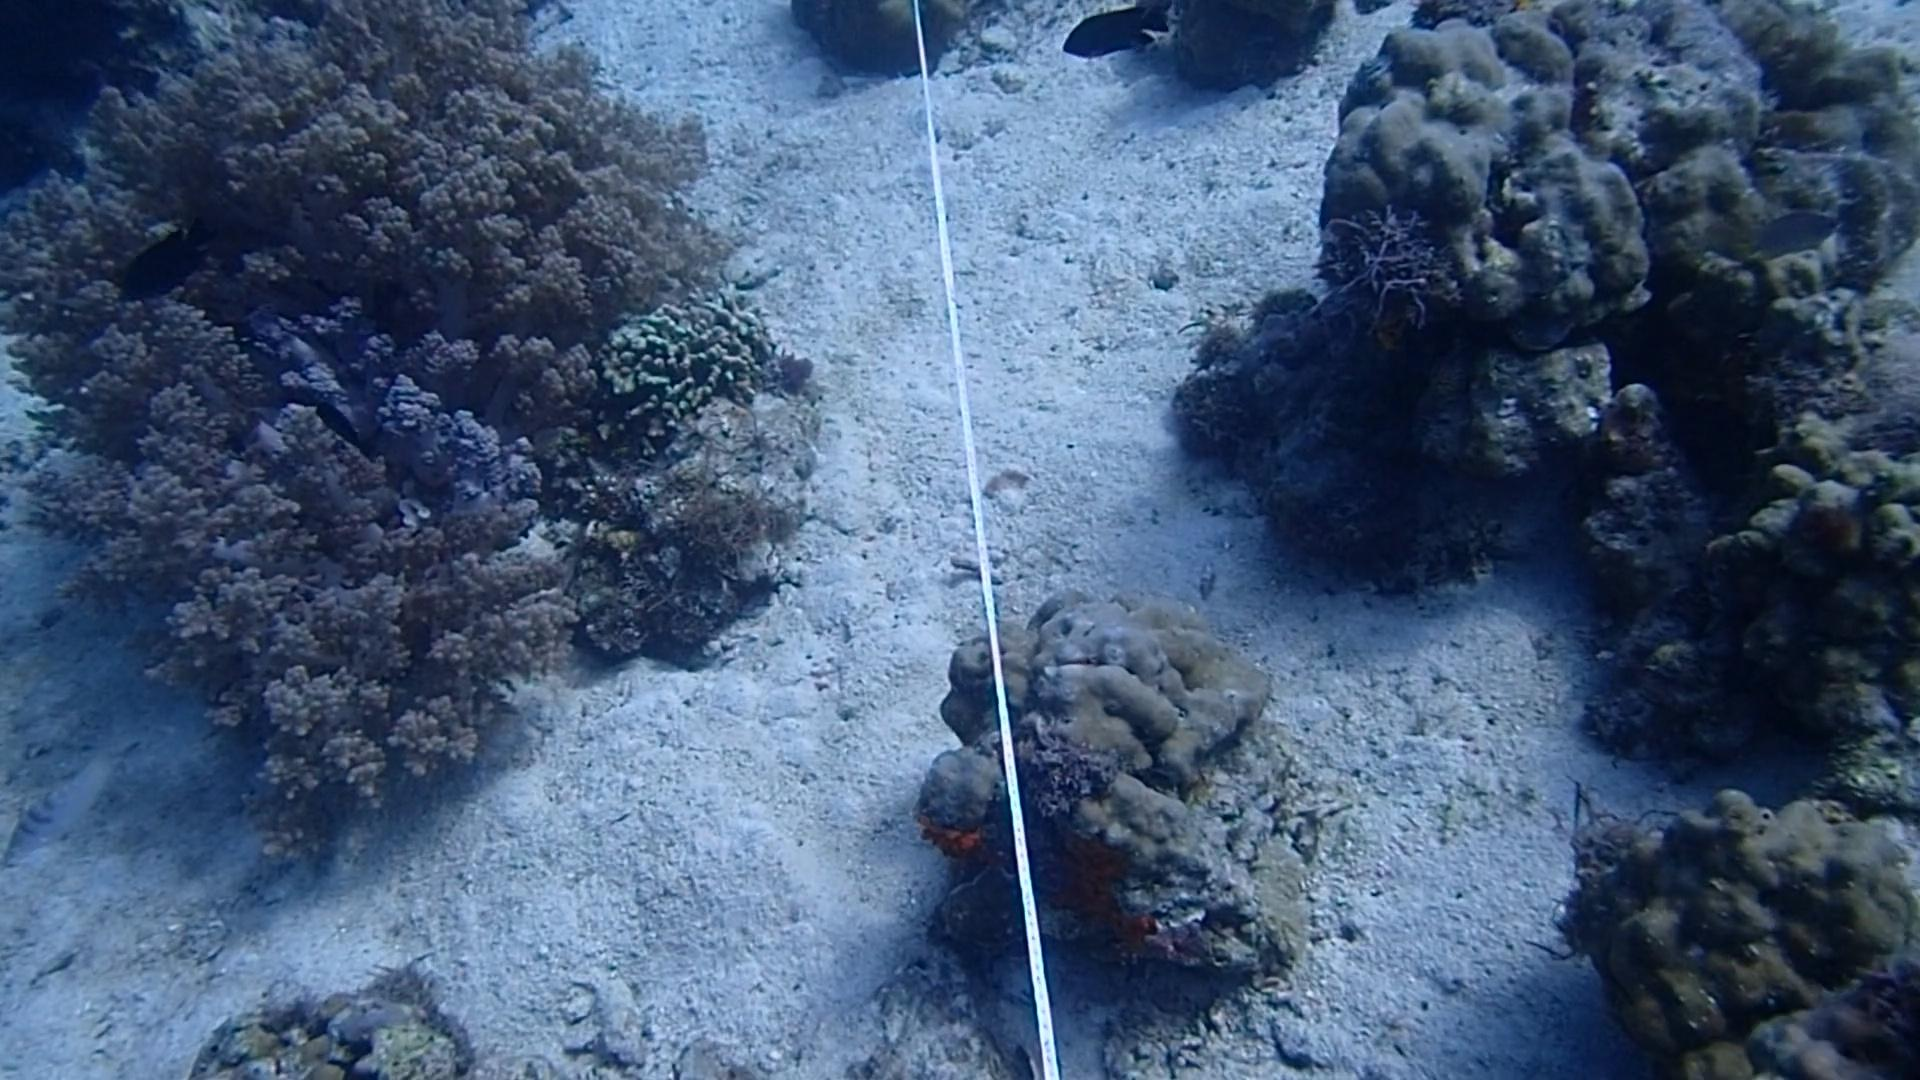Dark Fish: (96, 222, 223, 315), (280, 368, 396, 451), (1054, 3, 1179, 63)
Light Fish w Back Stripes: (0, 735, 132, 878)
